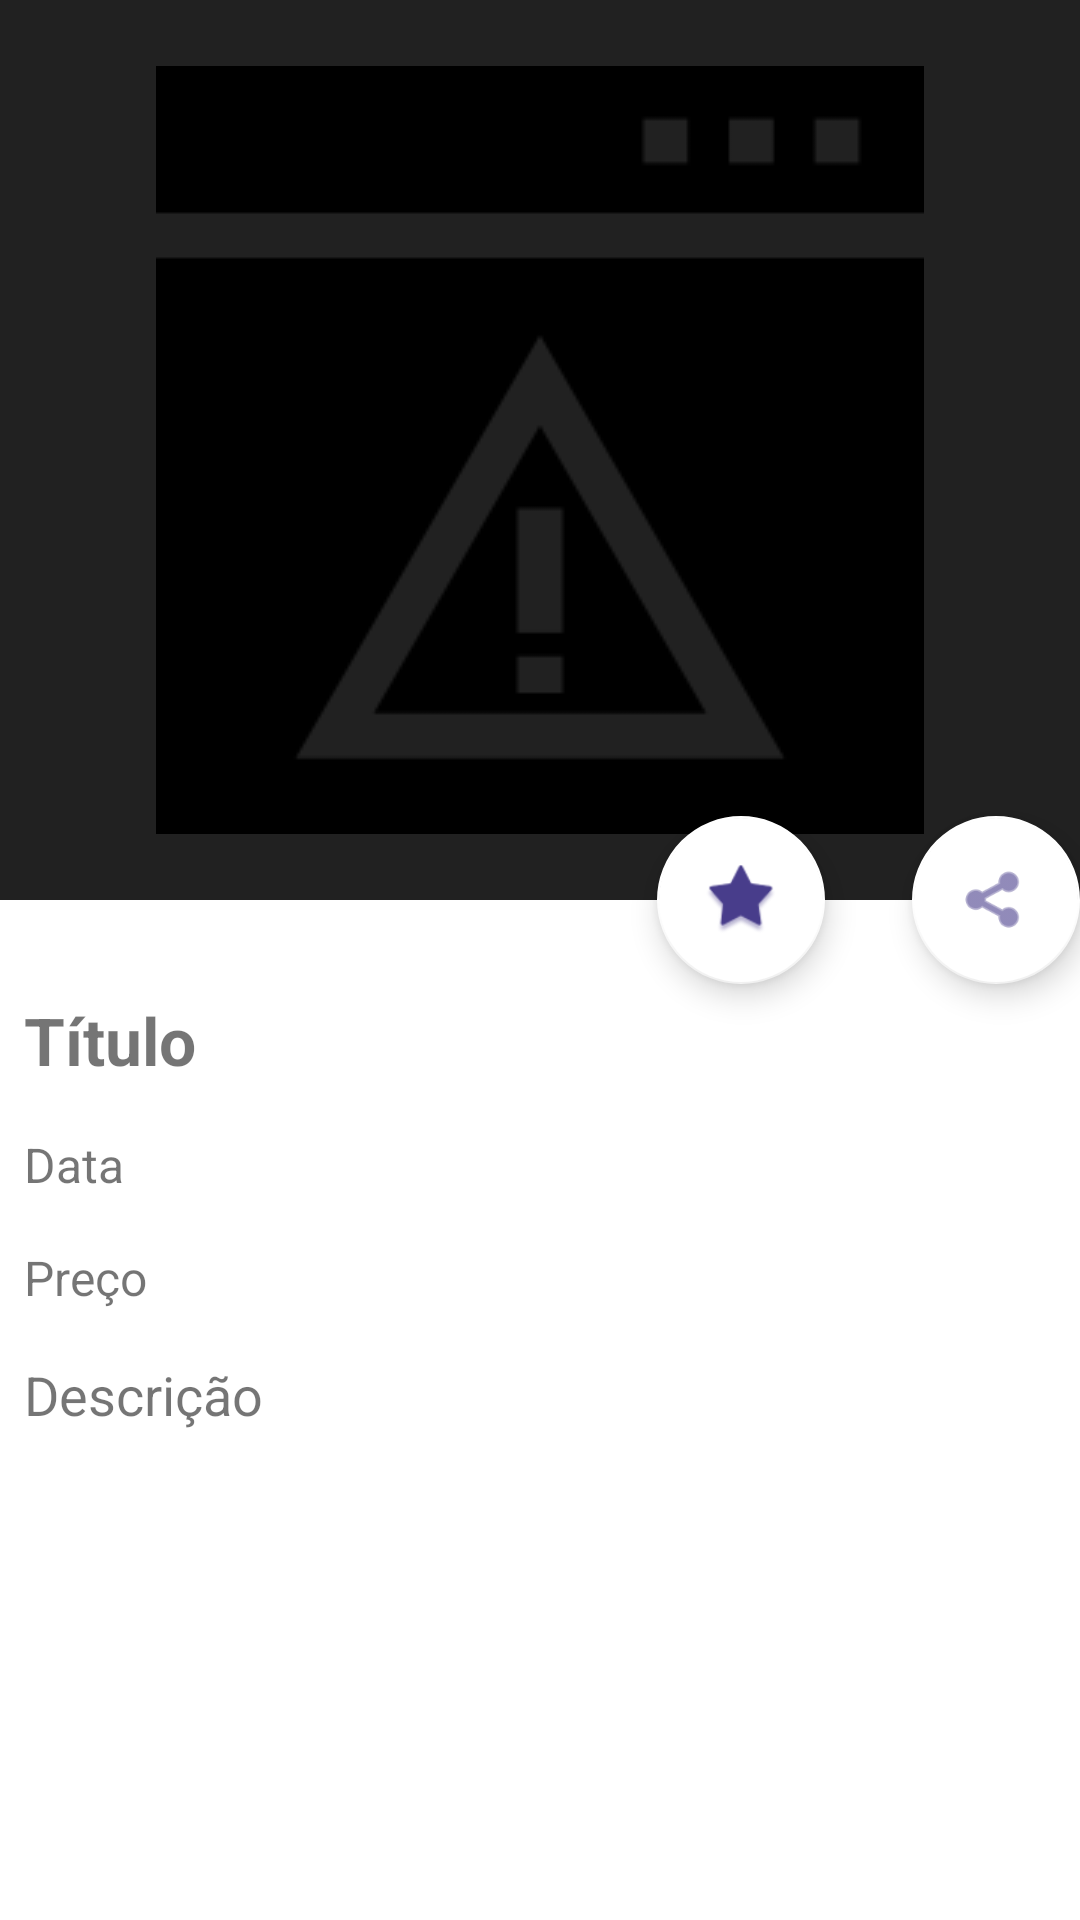

Icons on this 1080 x 1920 Android screen, each with the point to tap as (x,y):
share: (996,900)
star on: (741,900)
